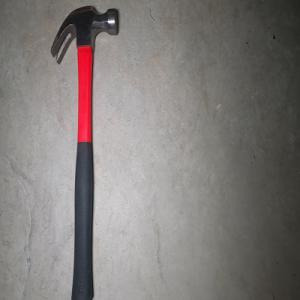Hammer: (49, 4, 119, 300)
